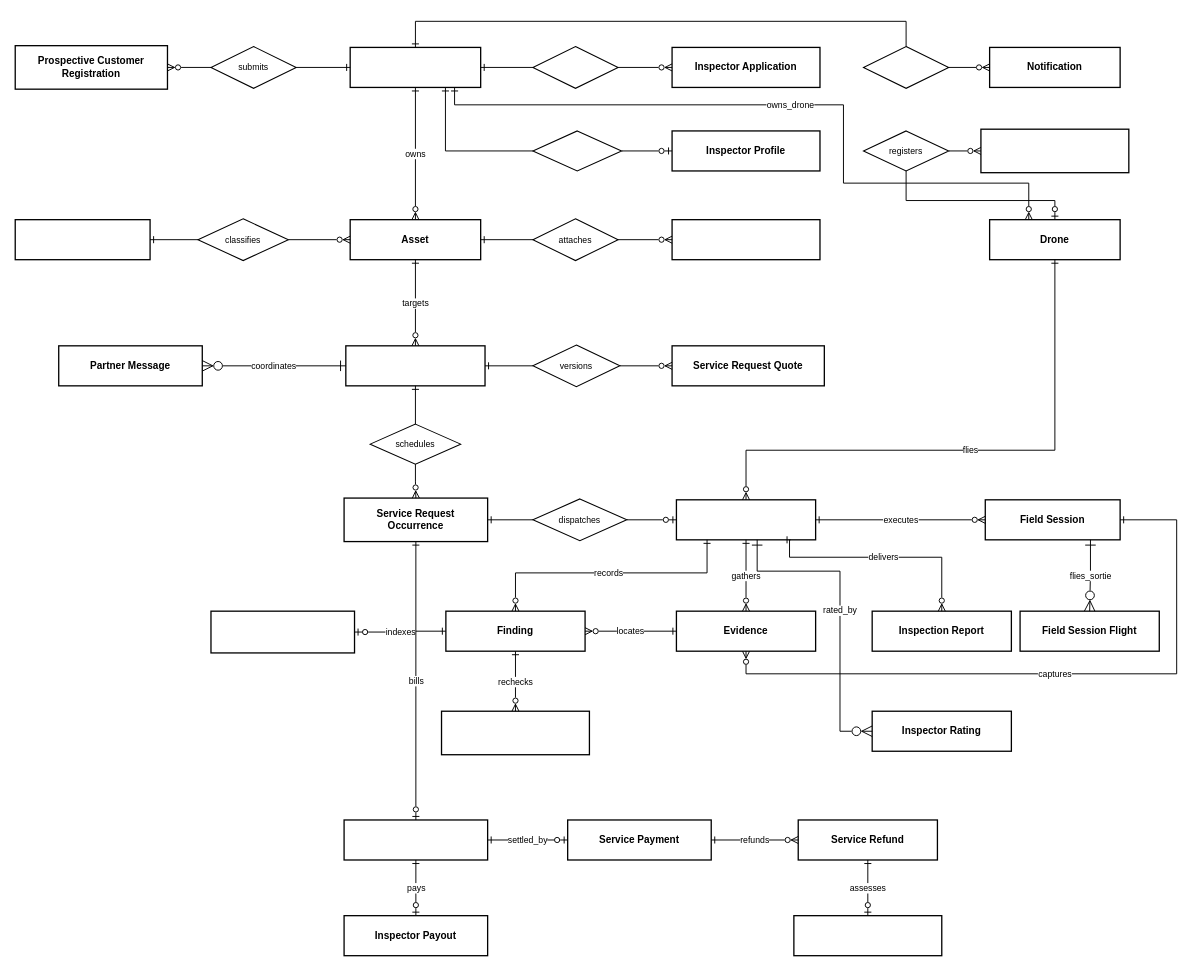
The diagram is 1201 pixels wide and 972 high, and some of its shapes have lost their labels. The centre of each missing label's shape, as x and y in pixels:
applies: the point at 575,67
Asset Category: the point at 82,239
Asset Document: the point at 745,239
Drone Registration Application: the point at 1054,150
has profile: the point at 577,150
Historical Finding Case: the point at 282,631
Inspection: the point at 745,519
Inspector Receivable: the point at 867,935
receives: the point at 906,67
Reinspection Defect Verification: the point at 515,732
Service Invoice: the point at 415,839
Service Request: the point at 415,365
User: the point at 415,67
